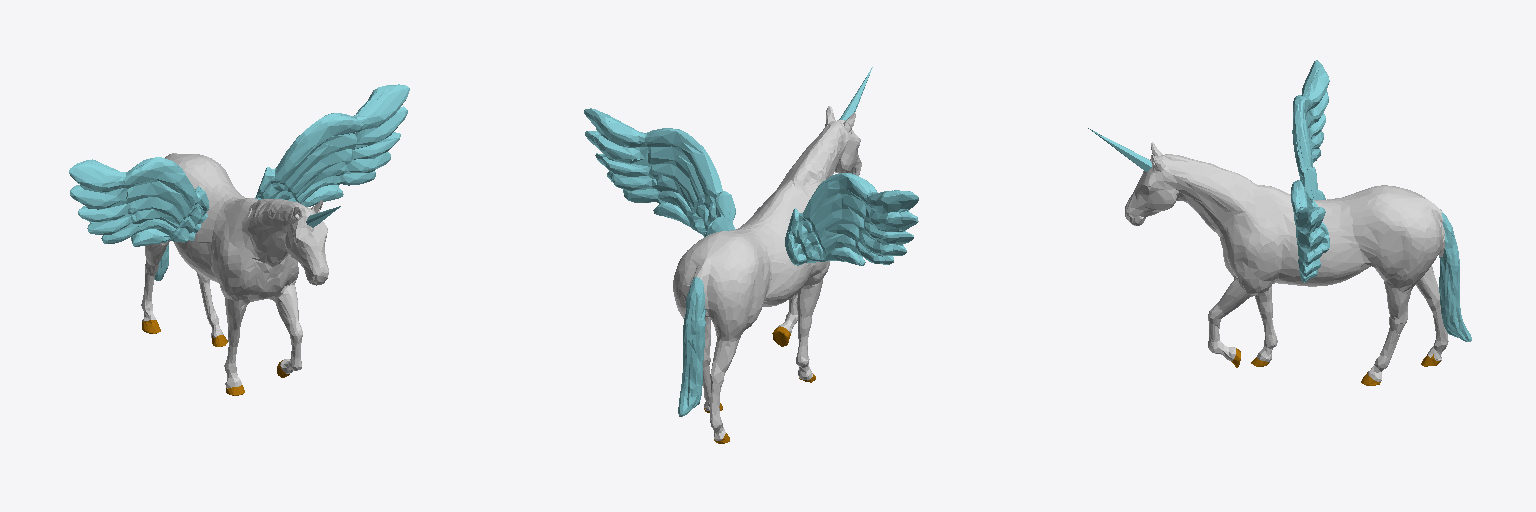
Rendered from unicorn_obj.obj.
3 renders of one model, left to right at view 1: azimuth 30°, elevation 25°; view 2: azimuth 150°, elevation 25°; view 3: azimuth 270°, elevation 25°, orthographic.
Parts seen in each view (by area): view 1: 16268_American_Quarter_Horse_Walking_V1; view 2: 16268_American_Quarter_Horse_Walking_V1; view 3: 16268_American_Quarter_Horse_Walking_V1.
Boxes of the visible parts, x1=… form: 16268_American_Quarter_Horse_Walking_V1: x1=69, y1=84, x2=409, y2=395; 16268_American_Quarter_Horse_Walking_V1: x1=584, y1=67, x2=918, y2=443; 16268_American_Quarter_Horse_Walking_V1: x1=1088, y1=60, x2=1471, y2=385.
Size of the model in its own units: 15.41 by 10.72 by 15.15.